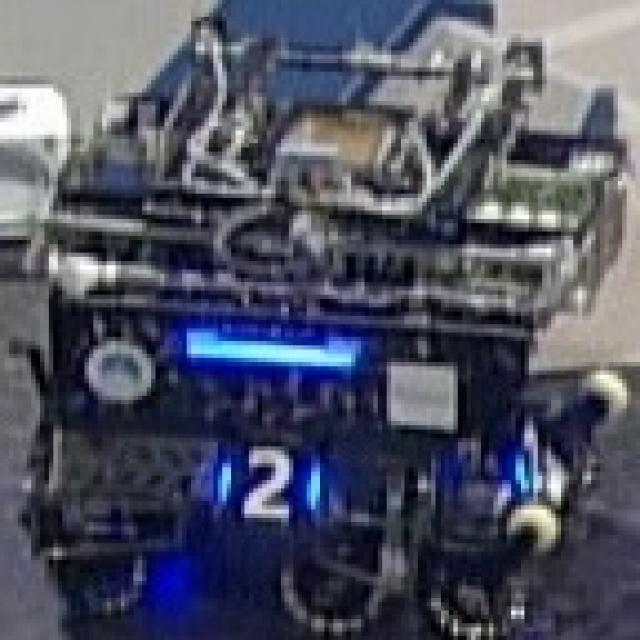B2: (213, 446, 324, 522)
